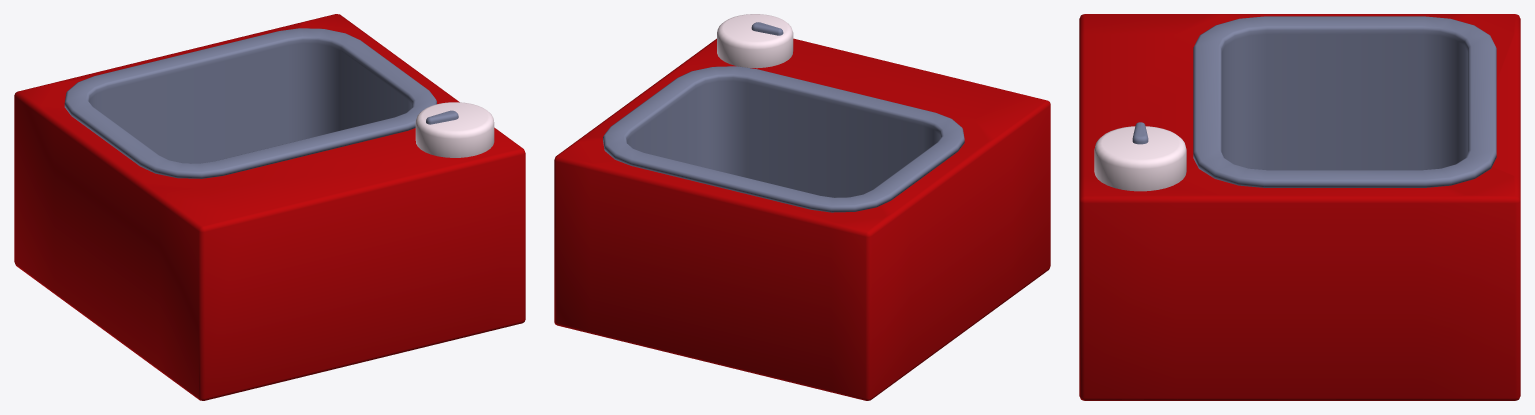
The model's file is SM_Fryer_Block.fbx.
The picture shows the model from 3 angles, left to right: view 1: azimuth 30°, elevation 25°; view 2: azimuth 150°, elevation 25°; view 3: azimuth 270°, elevation 25°; orthographic projection. The views are drawn at different scales.
Visible parts, largest first — view 1: Fryer_Block; view 2: Fryer_Block; view 3: Fryer_Block.
Boxes of the visible parts, x1,y1,x2,y2 form: Fryer_Block: (14, 14, 525, 400); Fryer_Block: (554, 14, 1050, 400); Fryer_Block: (1079, 14, 1520, 400).
Size of the model in its own units: 200 by 120 by 200.
